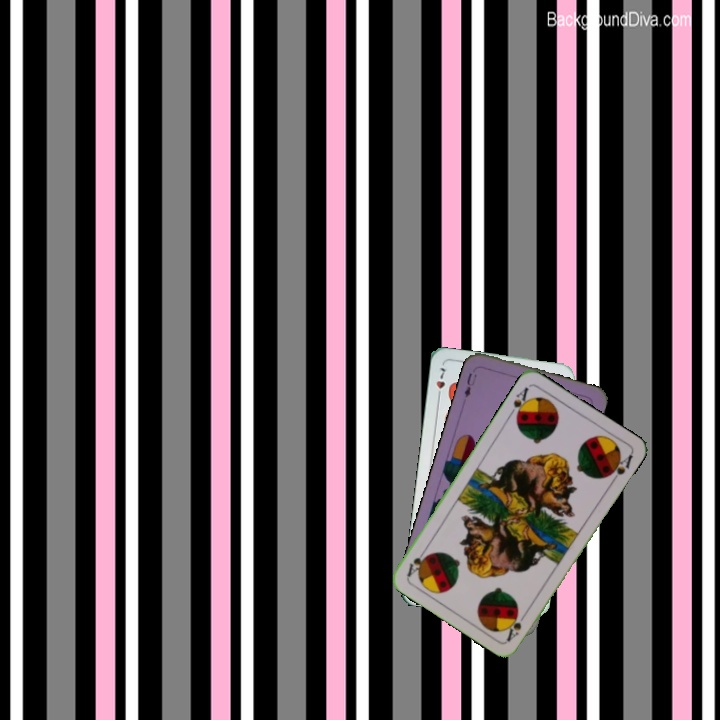EU: (460, 369, 479, 400)
H7: (432, 364, 449, 402)
SA: (504, 383, 533, 423), (502, 607, 530, 644)
